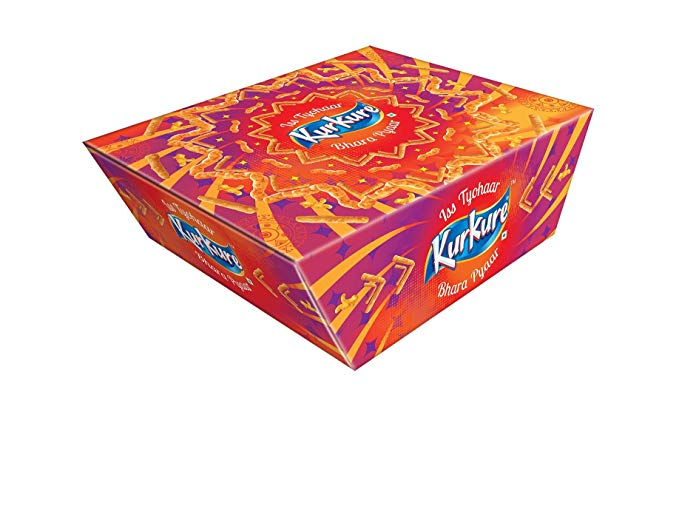cardboard: (75, 23, 624, 390)
kurkure: (272, 89, 397, 155)
